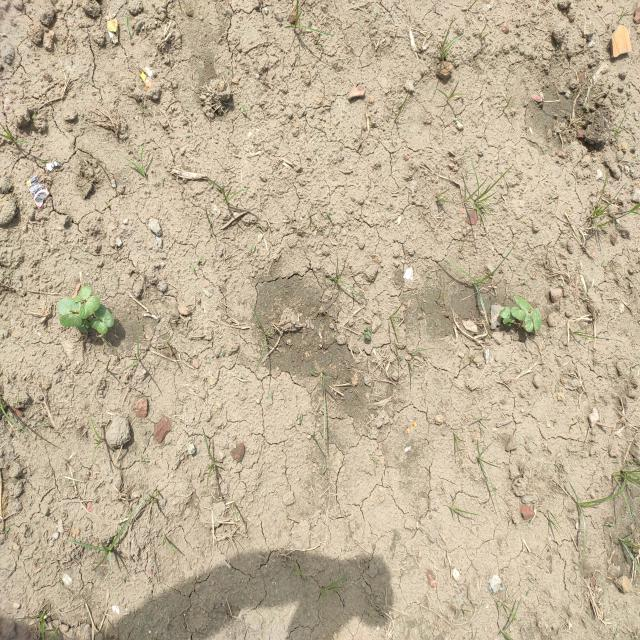seedling: (79, 296, 100, 319), (95, 303, 114, 327), (58, 298, 81, 314), (90, 318, 108, 335), (74, 285, 91, 302), (60, 313, 82, 326), (514, 295, 530, 312), (499, 307, 515, 324), (531, 308, 541, 330), (511, 307, 526, 320), (77, 320, 89, 333), (525, 313, 533, 332)
